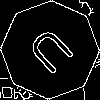U: (25, 25, 83, 83)
